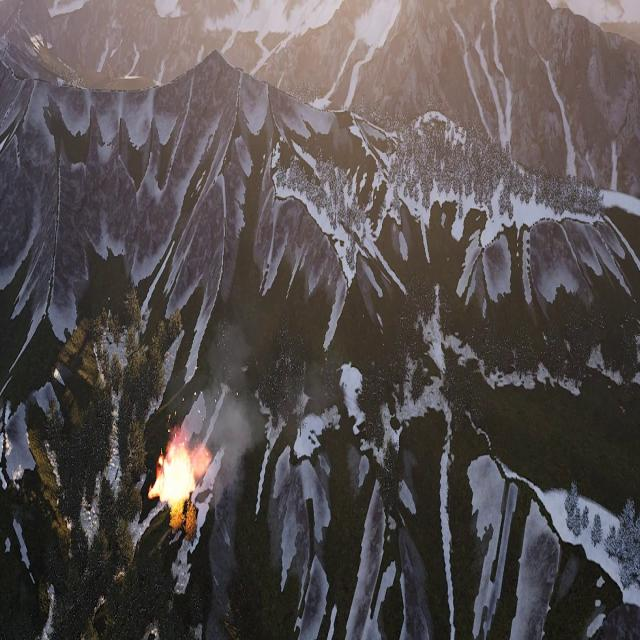fire: (150, 442, 198, 511)
smoke: (178, 308, 263, 499)
